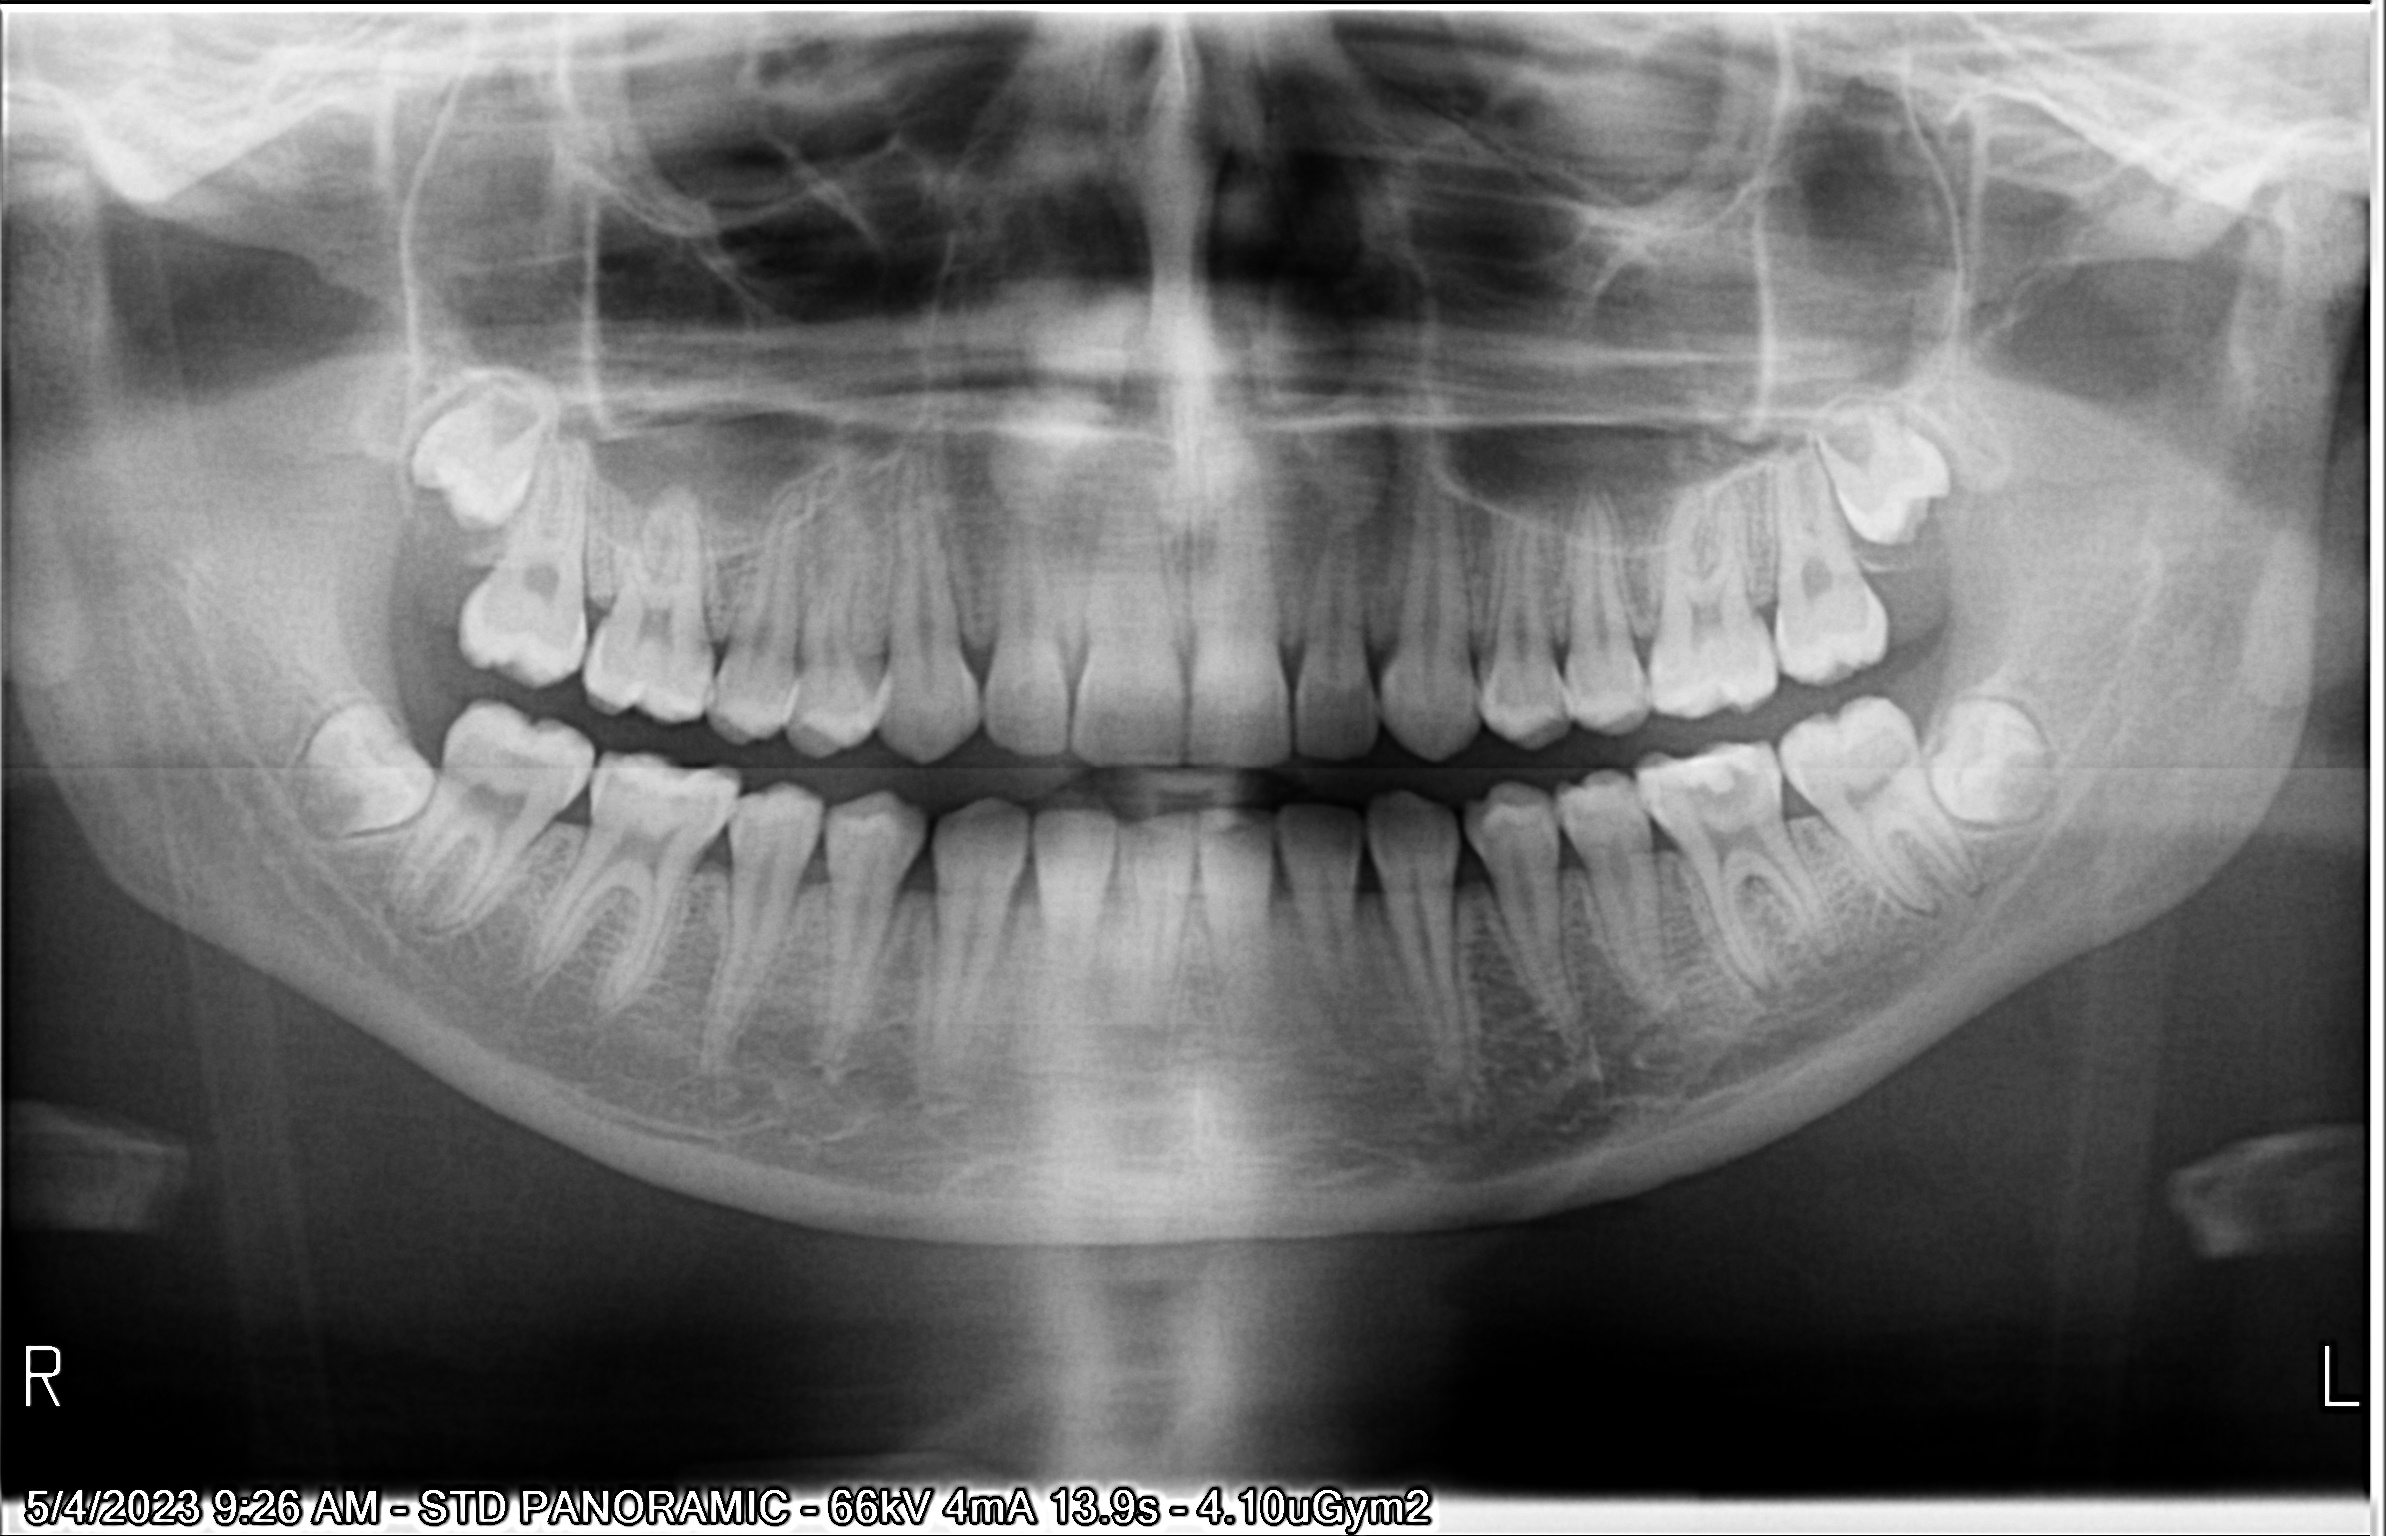CAR: (1694, 779, 1772, 816), (499, 745, 560, 783), (1623, 781, 1652, 826), (673, 790, 718, 818), (607, 776, 640, 800), (1642, 791, 1666, 825)
IMT: (1789, 336, 2016, 576), (243, 675, 424, 840), (383, 360, 553, 527), (1941, 684, 2104, 856)
OBT: (1692, 753, 1732, 790)
